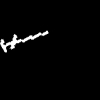double_crochet: (0, 31, 47, 51)
